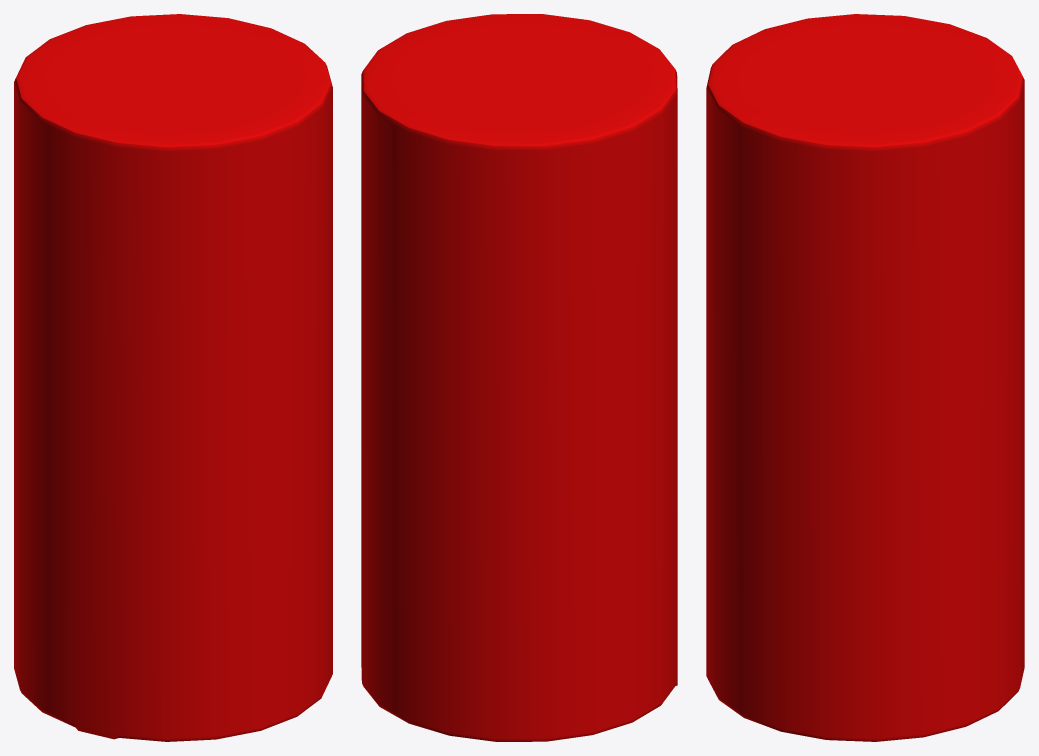
File: RoundBlock FBX.fbx
3 renders of one model, left to right at view 1: azimuth 30°, elevation 25°; view 2: azimuth 150°, elevation 25°; view 3: azimuth 270°, elevation 25°, orthographic.
Visible parts, largest first — view 1: pCylinder2; view 2: pCylinder2; view 3: pCylinder2.
Boxes of the visible parts, bbox=[...] form: pCylinder2: bbox=[14, 14, 332, 741]; pCylinder2: bbox=[361, 14, 677, 741]; pCylinder2: bbox=[706, 14, 1024, 741].
Bounding box in the file's own units: 0.712 × 1.48 × 0.712.
